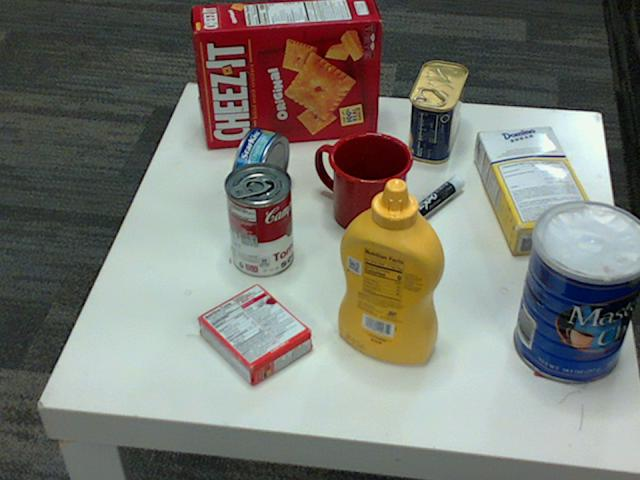cracker_box: (192, 0, 379, 146)
gelatin_box: (194, 283, 308, 387)
large_marker: (391, 178, 464, 237)
master_chef_can: (515, 201, 639, 384)
mug: (315, 130, 413, 233)
mustard_bottle: (337, 179, 444, 364)
potted_meat_can: (407, 62, 465, 164)
sugar_box: (474, 127, 600, 255)
tomato_soup_can: (224, 162, 293, 277)
tuna_fish_can: (230, 126, 288, 205)
